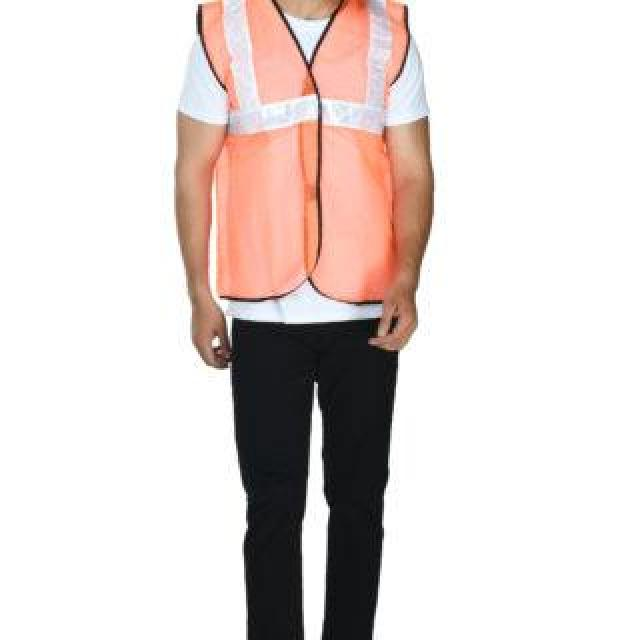Reflective-Jacket: (198, 4, 416, 306)
